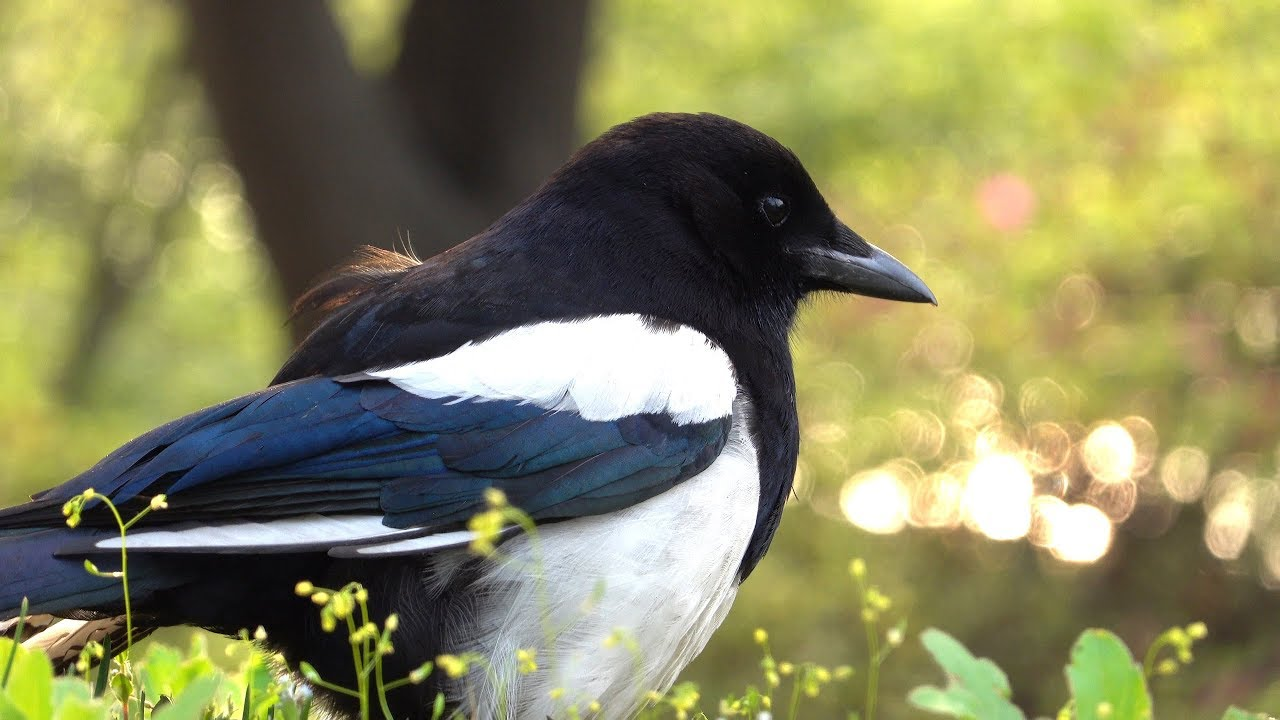magpie: (10, 111, 939, 709)
